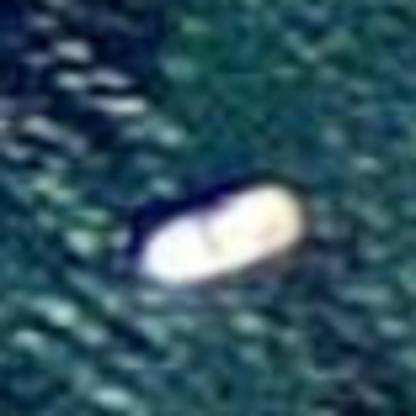ship: (123, 165, 317, 291)
